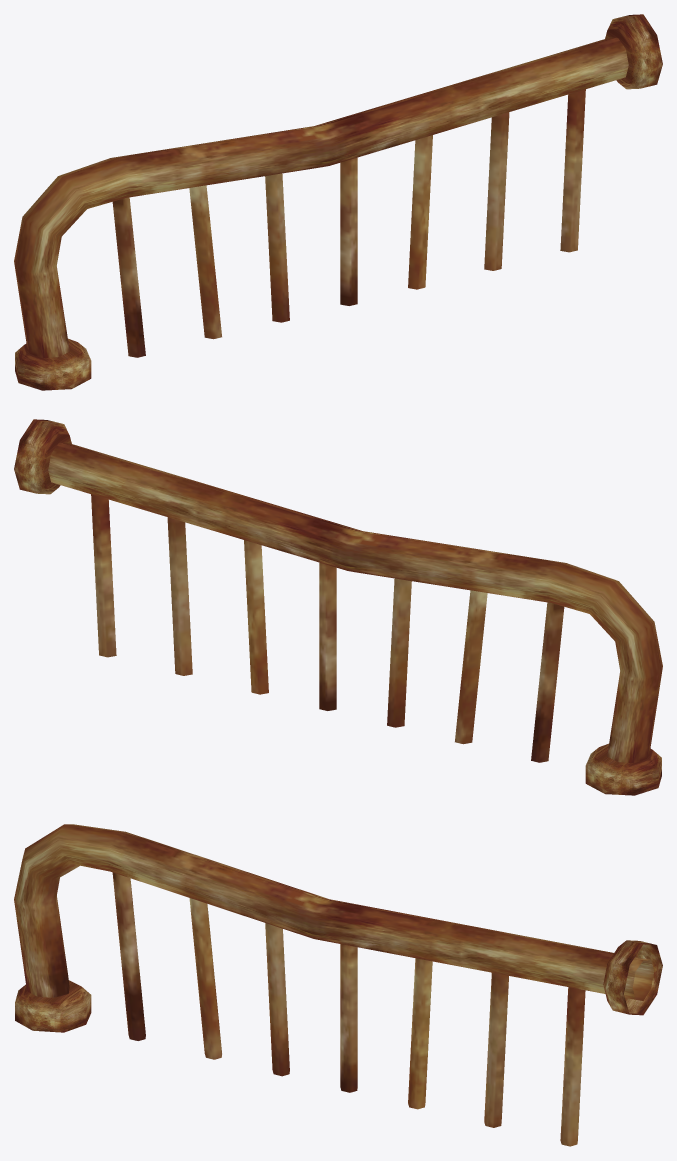
File: a-tesu-1.glb
3 views of the same model, one above another, from view 1: azimuth 30°, elevation 25°; view 2: azimuth 150°, elevation 25°; view 3: azimuth 330°, elevation 25° (orthographic).
Visible parts, largest first — view 1: a_tesu_1; view 2: a_tesu_1; view 3: a_tesu_1.
Boxes of the visible parts, box(x1,y1,x2,y2) form: a_tesu_1: box(14, 14, 662, 390); a_tesu_1: box(14, 419, 662, 795); a_tesu_1: box(14, 824, 662, 1146).
Bounding box in the file's own units: 370 × 122 × 40.
Materials: 1 (1 with a texture image).
